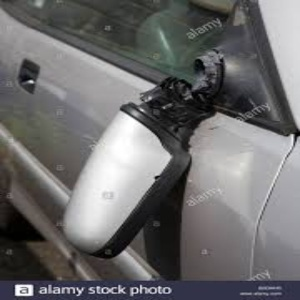side_mirror: (68, 74, 197, 267)
